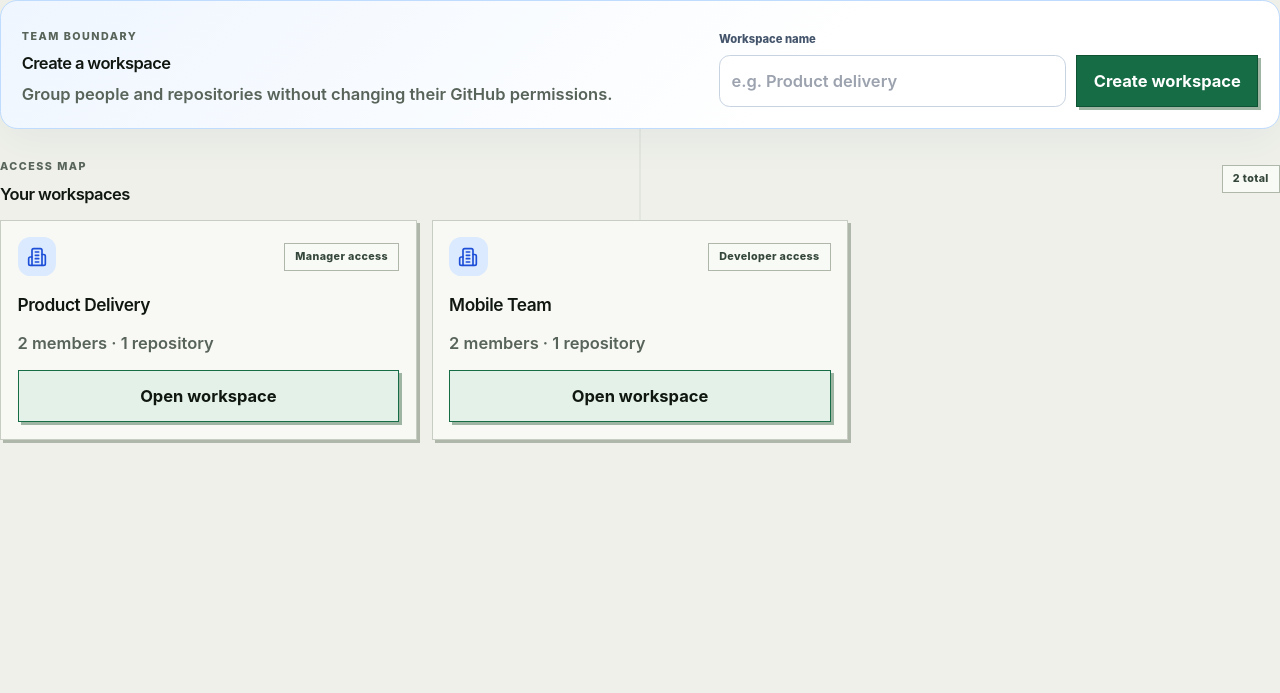
Scenario: workspace experience › shows safe repository-analysis run details without exposing source contents
This screenshot has width=1280, height=693.
Click the button with aria-label "Open Product Delivery" at [208, 396], box [18,370,399,422]
(page scrolled)
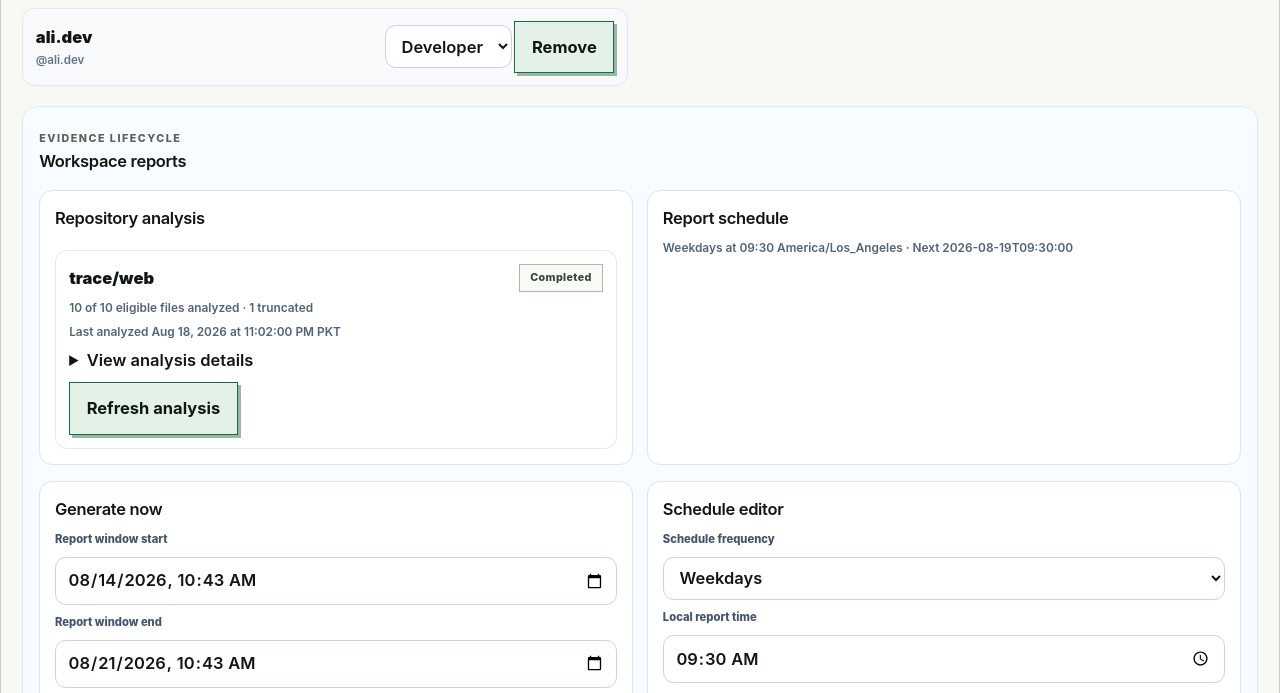
Click the heading "View analysis details" at [170, 360], box [87,350,253,370]
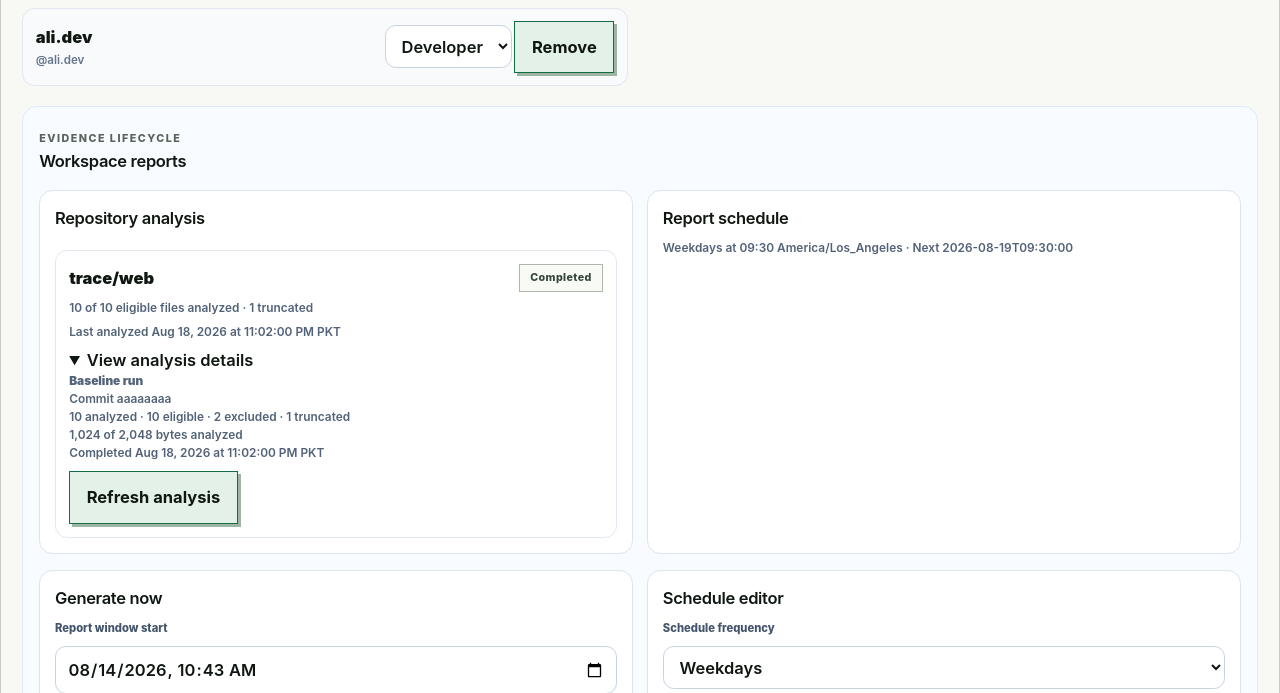
Check: the text "Baseline run" is shown, box [69,374,143,388]
Check: the text "10 analyzed · 10 eligible · 2 excluded · 1 truncated" is shown, box [69,409,350,424]
Check: the text "1,024 of 2,048 bytes analyzed" is shown, box [69,427,243,442]
